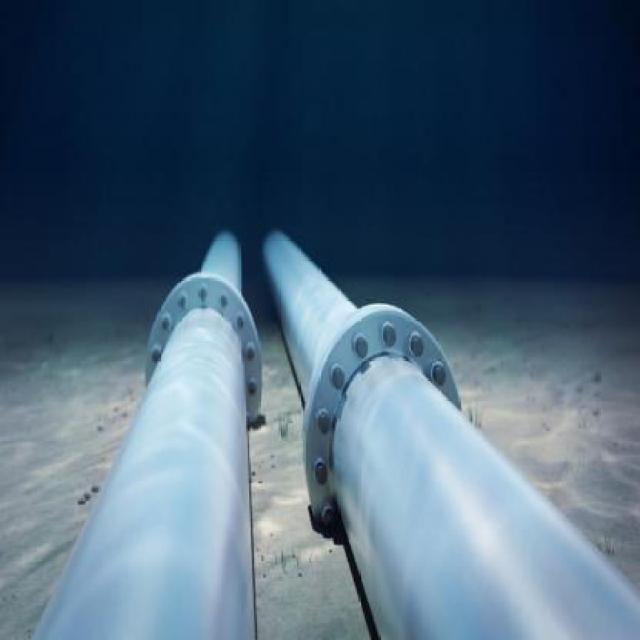gas: (260, 227, 640, 640), (33, 233, 254, 640)
